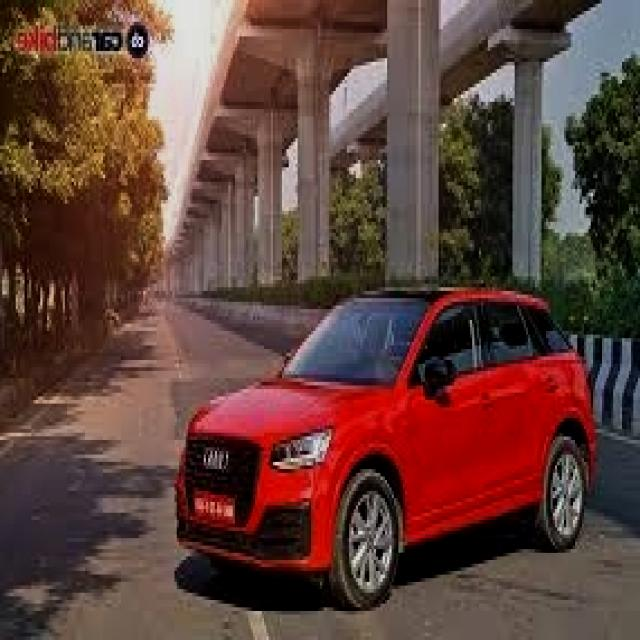red: (175, 284, 598, 600), (400, 0, 443, 209)
